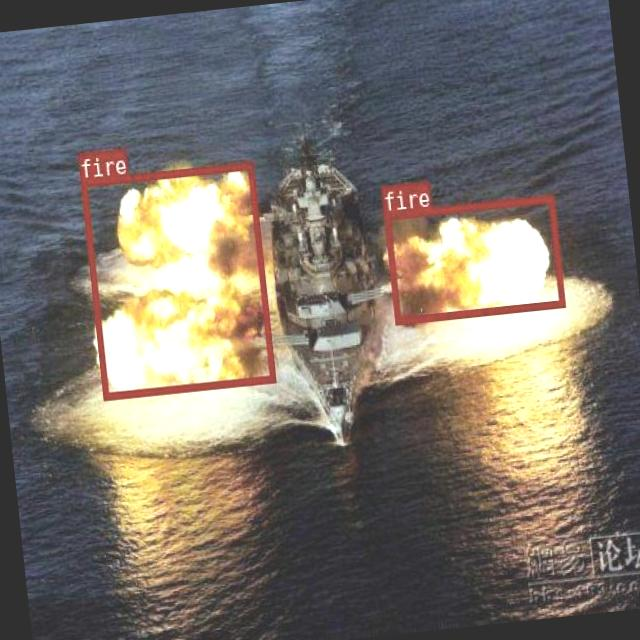fire: (79, 160, 274, 399), (382, 194, 564, 322)
